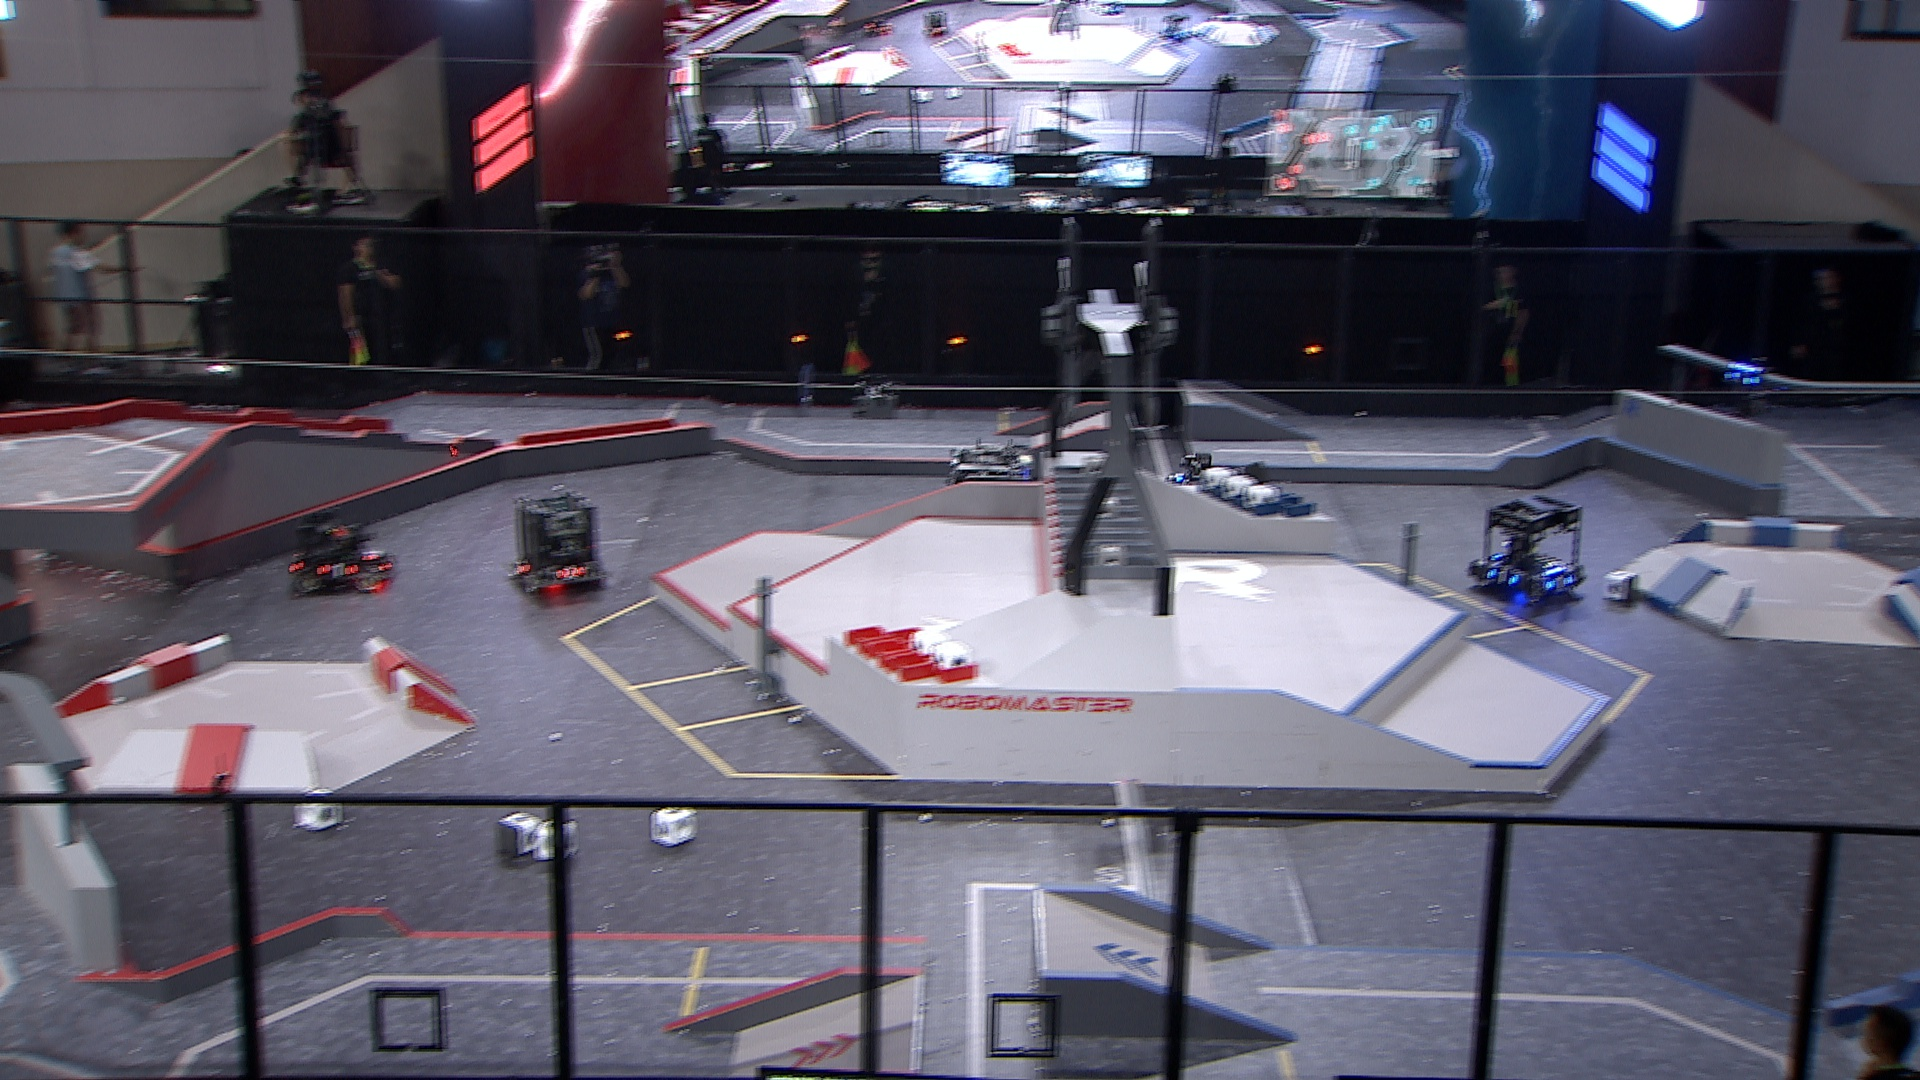armor: (316, 562, 357, 583), (1484, 568, 1519, 591), (1543, 574, 1572, 593), (1724, 372, 1756, 386), (556, 564, 585, 580), (512, 560, 531, 580), (363, 547, 381, 560)
car: (1461, 491, 1596, 607), (505, 491, 607, 600), (944, 439, 1048, 542), (285, 505, 396, 597), (1160, 448, 1234, 510)
ignore: (1156, 11, 1199, 41), (688, 44, 723, 73), (922, 7, 951, 36), (862, 16, 894, 38)
watcher: (1717, 357, 1782, 422)
